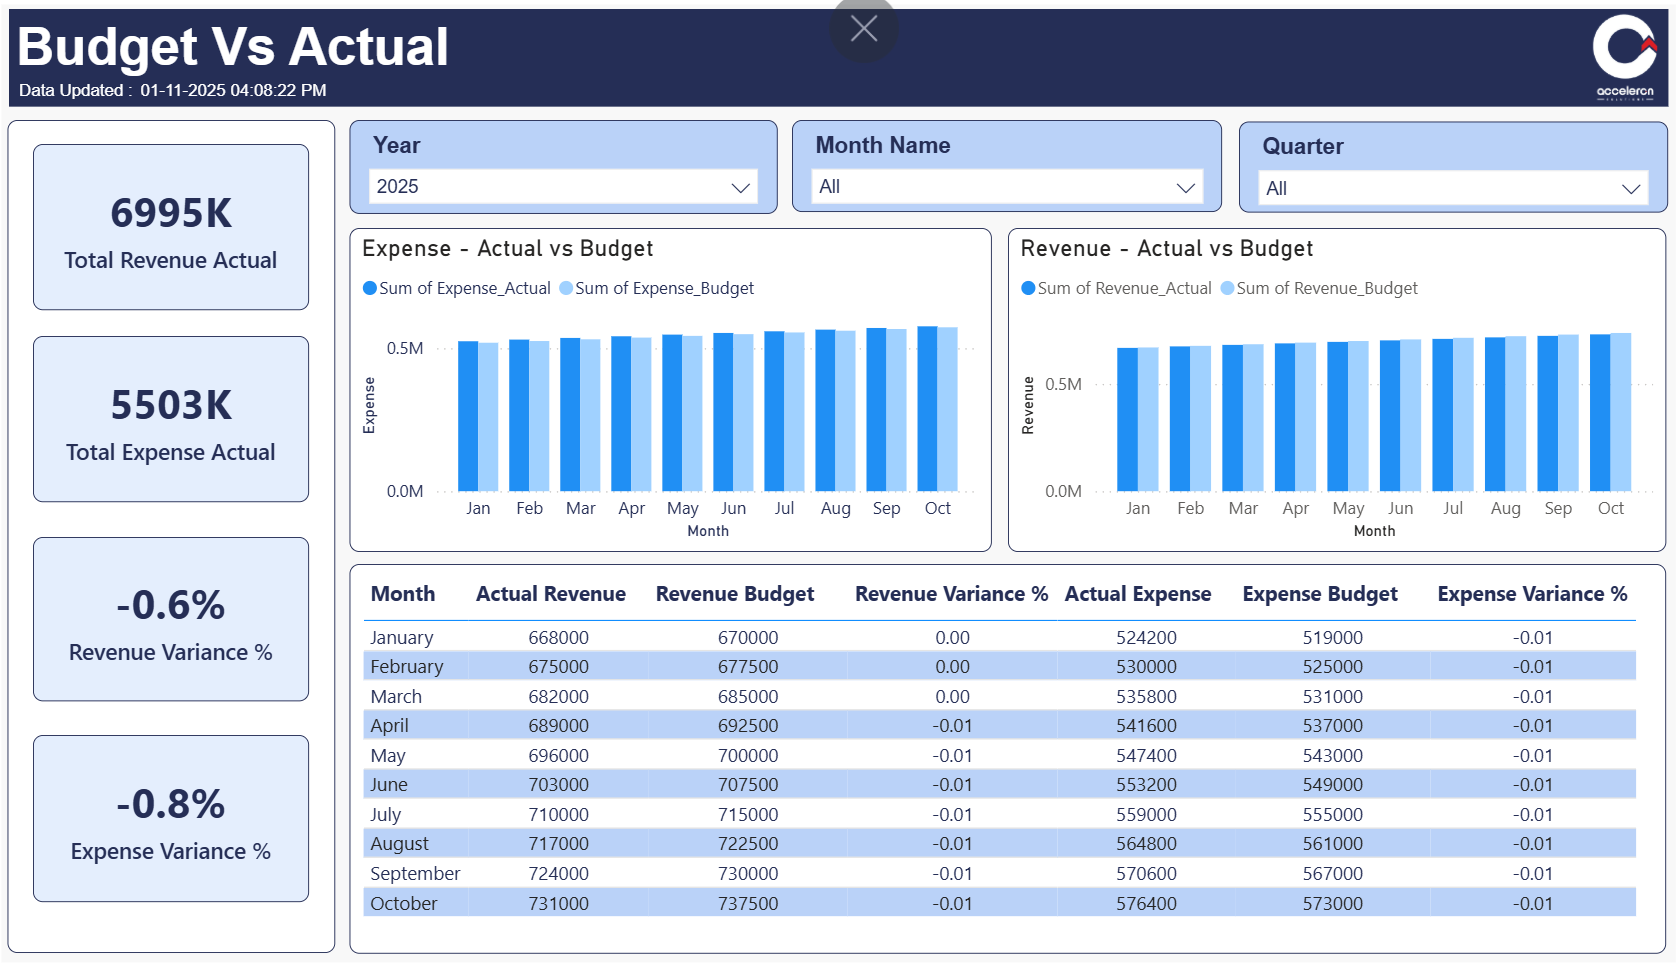

The page's visual inventory and layout, read from the dashboard file:
{"tool":"powerbi","page":{"name":"Budget vs  Actual","canvas":[1200,690],"ordinal":2},"visuals":[{"type":"textbox","box":[5.6,5.6,1188.8,680],"z":0},{"type":"textbox","box":[10.5,8.1,1178.2,69.4],"z":1000},{"type":"image","box":[1127.3,57,60.2,21.9],"z":2000},{"type":"image","box":[1127.3,5.5,60.2,59.4],"z":3000},{"type":"textbox","box":[13,49.5,95.8,29.2],"z":4000},{"type":"textbox","box":[98.6,49.5,157.4,31],"z":5000},{"type":"slicer","fields":{"Values":["Date.Year"]},"box":[251.9,87,303.7,66.7],"z":6000},{"type":"slicer","fields":{"Values":["Date.Month Name"]},"box":[566.7,87.5,305.6,65.3],"z":7000},{"type":"slicer","fields":{"Values":["Date.Quarter"]},"box":[883.8,88.2,304.4,64.7],"z":8000},{"type":"textbox","box":[9.9,87.2,232.6,591.3],"z":9000},{"type":"card","fields":{"Values":["Sum(BudgetVsActual.Expense_Actual)"]},"box":[27.5,240.6,196.2,118.1],"z":10000},{"type":"card","fields":{"Values":["Sum(BudgetVsActual.Revenue_Actual)"]},"box":[27.5,104.4,196.2,118.1],"z":11000},{"type":"card","fields":{"Values":["BudgetVsActual.Revenue Variance %"]},"box":[27.5,383.1,196.2,116.9],"z":12000},{"type":"tableEx","fields":{"Values":["BudgetVsActual.Column.Variation.Date Hierarchy.Month","Sum(BudgetVsActual.Revenue_Actual)","Sum(BudgetVsActual.Revenue_Budget)","BudgetVsActual.Revenue Variance %","Sum(BudgetVsActual.Expense_Actual)","Sum(BudgetVsActual.Expense_Budget)","BudgetVsActual.Expense Variance %"]},"box":[252.5,402.2,934.4,276.9],"z":13000},{"type":"clusteredColumnChart","title":"Revenue - Actual vs Budget","fields":{"Y":["Sum(BudgetVsActual.Revenue_Actual)","Sum(BudgetVsActual.Revenue_Budget)"],"Category":["Date.Month Name"]},"box":[719.8,163.8,467.2,230.2],"z":14000},{"type":"clusteredColumnChart","title":"Expense - Actual vs Budget","fields":{"Category":["Date.Month Name"],"Y":["Sum(BudgetVsActual.Expense_Actual)","Sum(BudgetVsActual.Expense_Budget)"]},"box":[252.6,163.8,456,230.2],"z":15000},{"type":"card","fields":{"Values":["BudgetVsActual.Expense Variance %"]},"box":[27.5,524.4,196.2,118.8],"z":16000}]}

Visuals, with their boxes in screenshot pixels (x1, y1, x2, y2), scaled from the page's 1200x690 canvas onto the 1677x966 screenshot:
textbox: (x1=8, y1=8, x2=1669, y2=960)
textbox: (x1=15, y1=11, x2=1661, y2=108)
image: (x1=1575, y1=80, x2=1660, y2=110)
image: (x1=1575, y1=8, x2=1660, y2=91)
textbox: (x1=18, y1=69, x2=152, y2=110)
textbox: (x1=138, y1=69, x2=358, y2=113)
slicer - Date.Year: (x1=352, y1=122, x2=776, y2=215)
slicer - Date.Month Name: (x1=792, y1=122, x2=1219, y2=214)
slicer - Date.Quarter: (x1=1235, y1=123, x2=1661, y2=214)
textbox: (x1=14, y1=122, x2=339, y2=950)
card - Sum(BudgetVsActual.Expense_Actual): (x1=38, y1=337, x2=313, y2=502)
card - Sum(BudgetVsActual.Revenue_Actual): (x1=38, y1=146, x2=313, y2=312)
card - BudgetVsActual.Revenue Variance %: (x1=38, y1=536, x2=313, y2=700)
tableEx - BudgetVsActual.Column.Variation.Date Hierarchy.Month x Sum(BudgetVsActual.Revenue_Actual): (x1=353, y1=563, x2=1659, y2=951)
"Revenue - Actual vs Budget" clusteredColumnChart: (x1=1006, y1=229, x2=1659, y2=552)
"Expense - Actual vs Budget" clusteredColumnChart: (x1=353, y1=229, x2=990, y2=552)
card - BudgetVsActual.Expense Variance %: (x1=38, y1=734, x2=313, y2=900)
